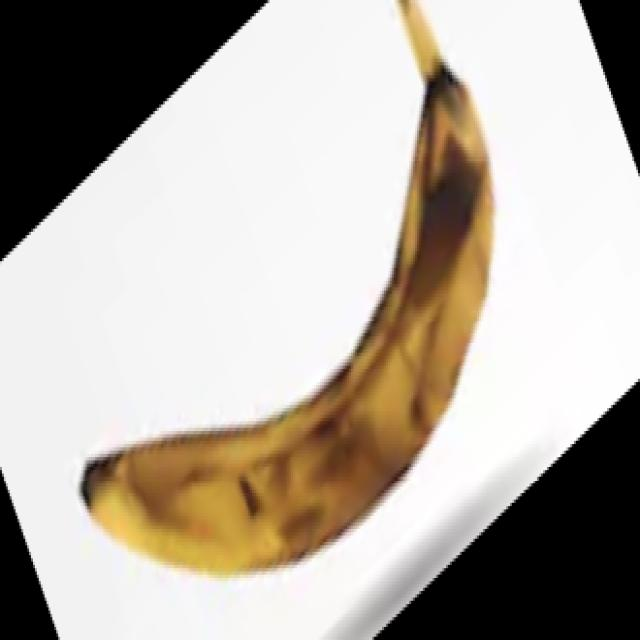overripe: (78, 0, 500, 579)
